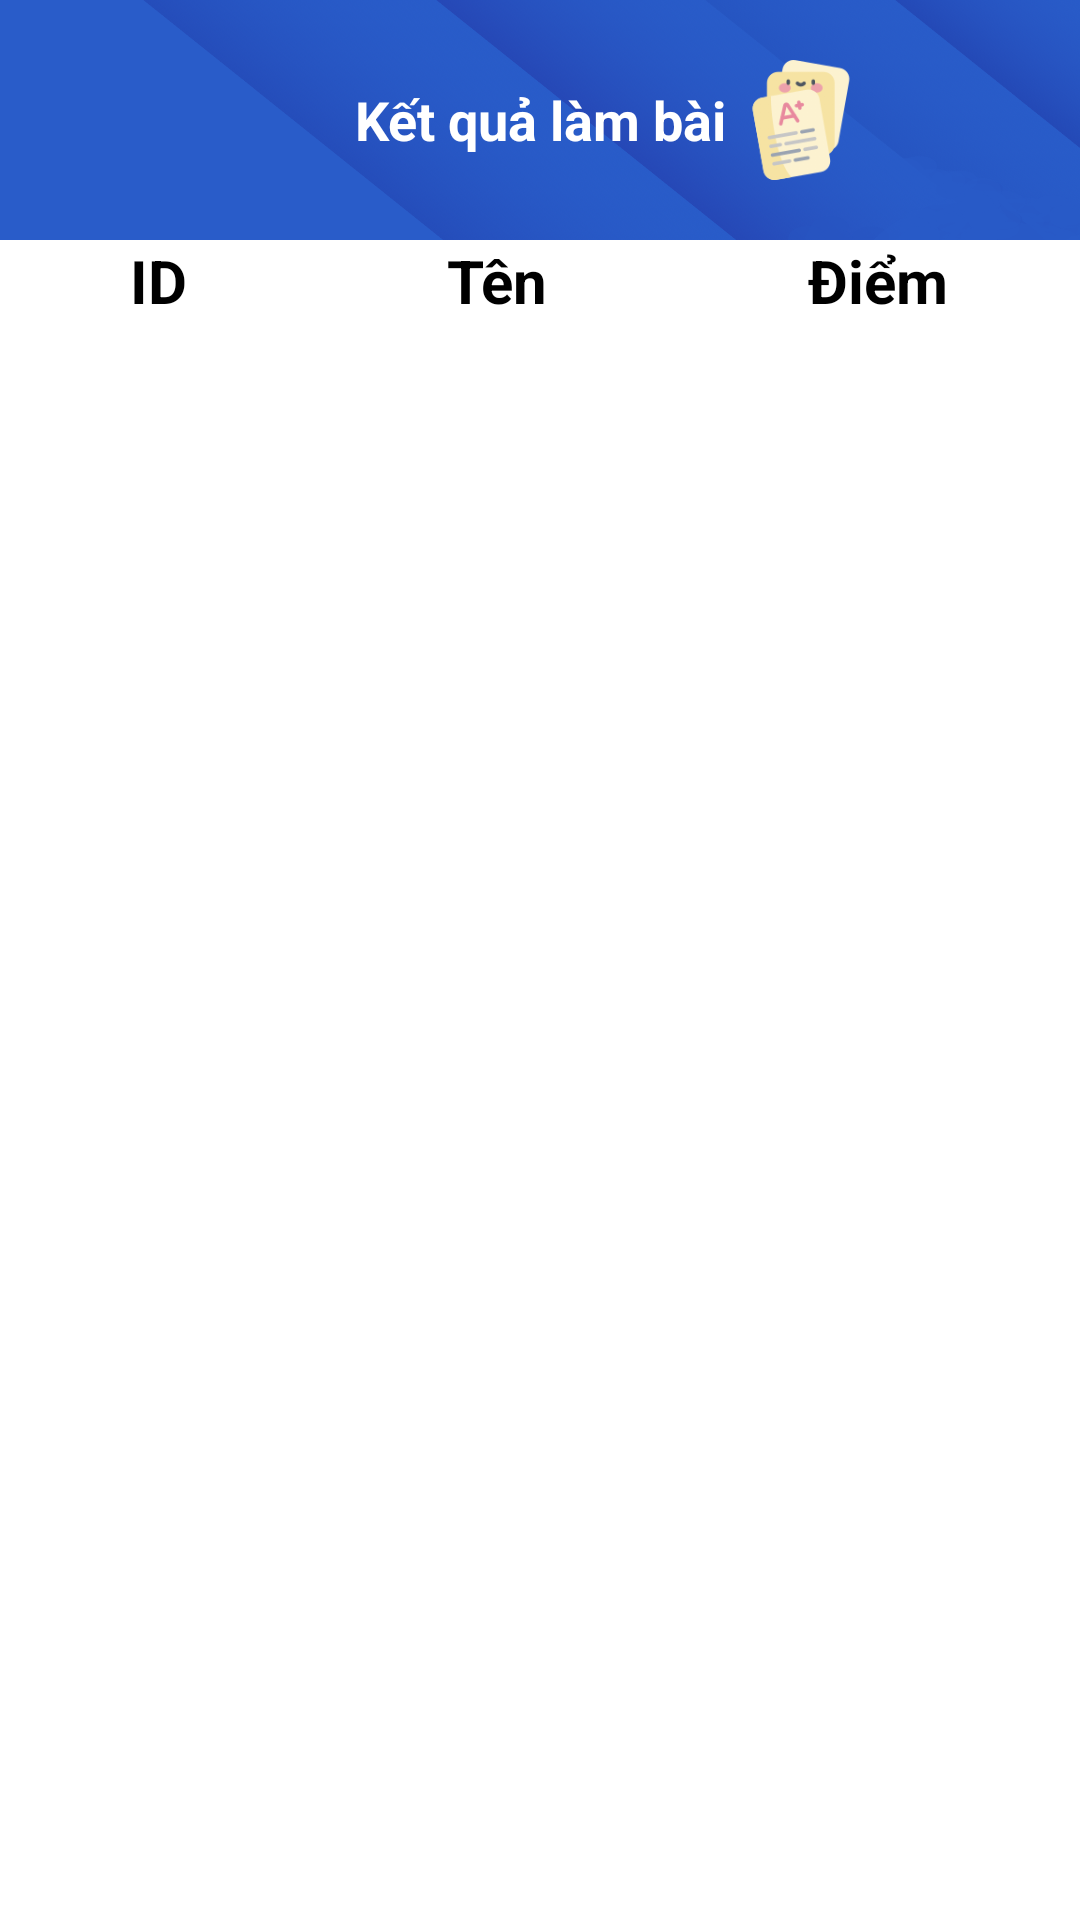

Locate icon controls on the screen. Image size 1080*1920, boxes as {"x1": x1, "y1": y1, "x2": x2, "y2": y2}.
result exam: {"x1": 752, "y1": 60, "x2": 850, "y2": 180}
